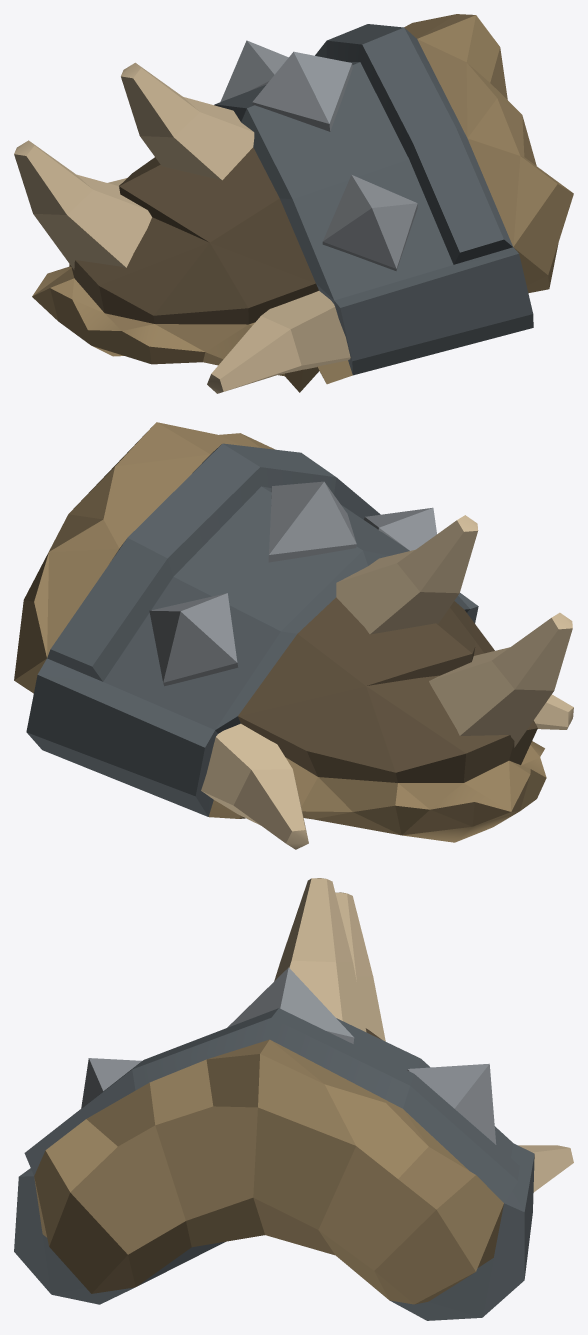
Rendered from Chr_ShoulderAttachRight_06_Static.fbx.
The picture shows the model from 3 angles, top to bottom: view 1: azimuth 30°, elevation 25°; view 2: azimuth 150°, elevation 25°; view 3: azimuth 270°, elevation 25°; orthographic projection. The views are drawn at different scales.
Visible parts, largest first — view 1: Chr_ShoulderAttachRight_06_Static; view 2: Chr_ShoulderAttachRight_06_Static; view 3: Chr_ShoulderAttachRight_06_Static.
Part boxes in pixels (x1,y1,x2,y2): Chr_ShoulderAttachRight_06_Static: (14, 14, 573, 393); Chr_ShoulderAttachRight_06_Static: (14, 422, 573, 849); Chr_ShoulderAttachRight_06_Static: (14, 878, 573, 1320).
Bounding box in the file's own units: 0.3224 × 0.1856 × 0.2931.
